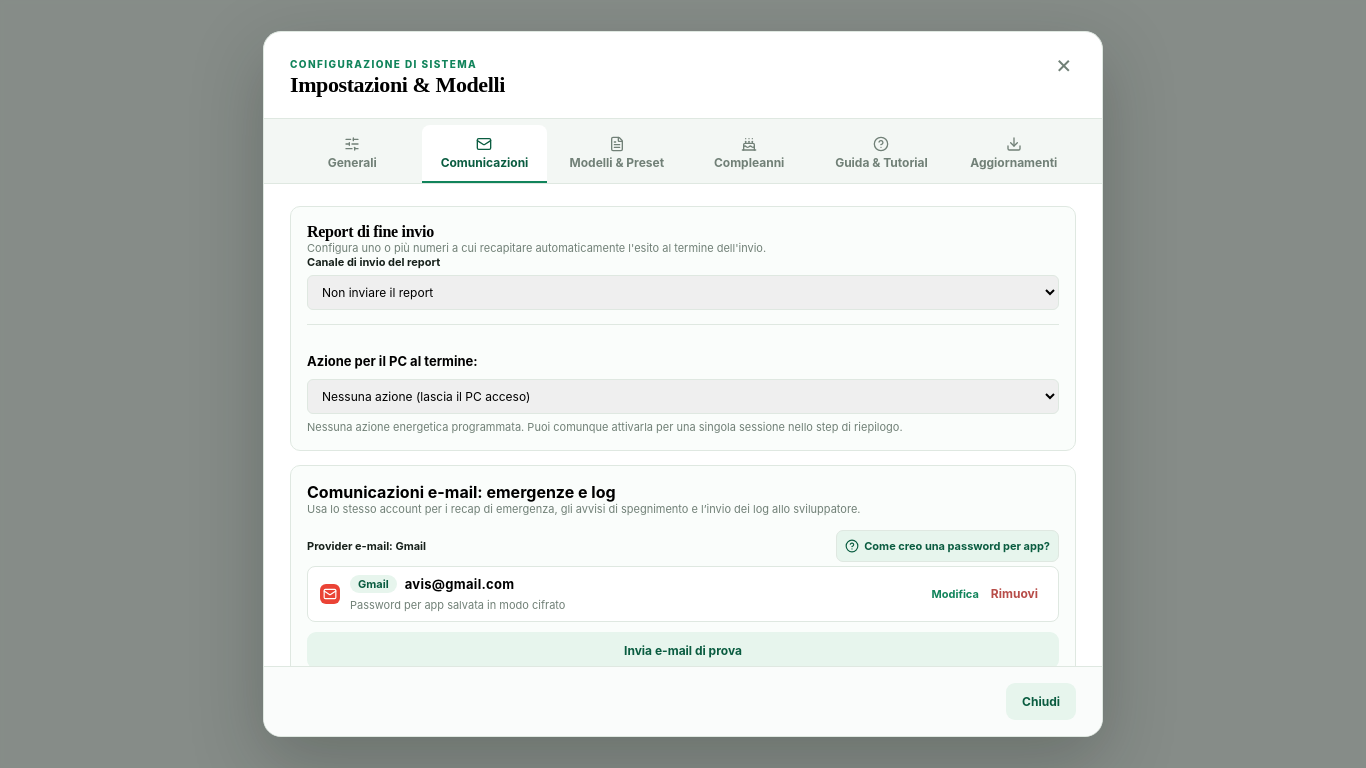
Scenario: SettingsModal › mostra una card Gmail compatta quando il provider è configurato
expect the text "Gmail" is shown: met, box [350, 575, 397, 593]
expect the text "avis@gmail.com" is shown: met, box [405, 576, 514, 592]
Click the button with aria-label "Modifica provider Gmail". click: [955, 594]
box: [932, 587, 979, 601]
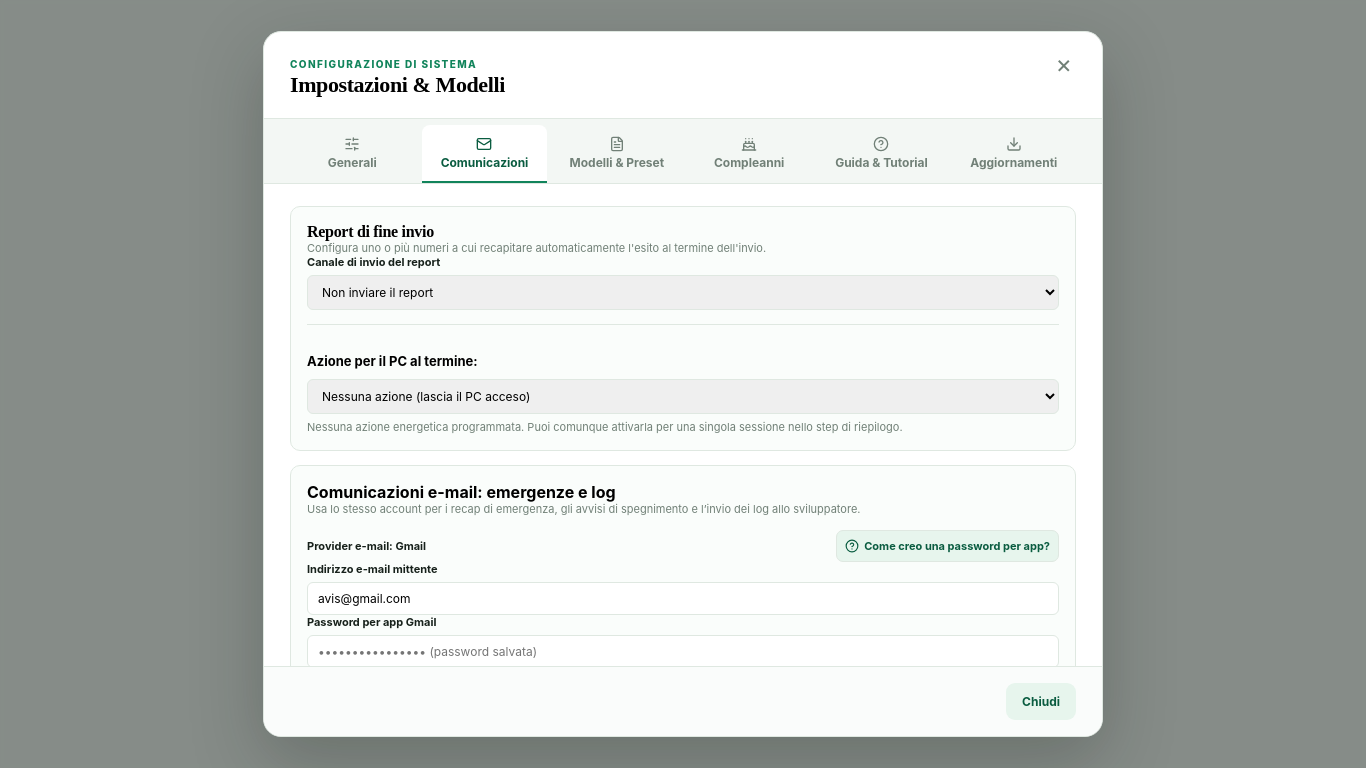
expect the field labelled "Indirizzo e-mail mittente" holds "avis@gmail.com": met, box [307, 582, 1059, 615]
